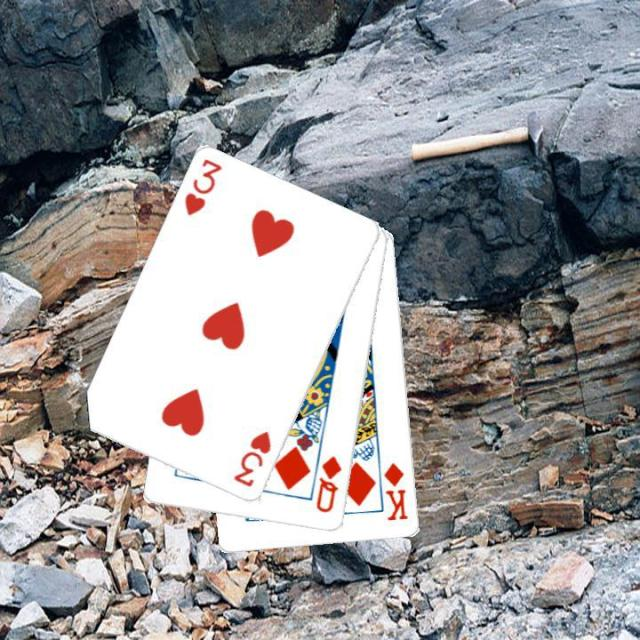3H: (229, 428, 274, 490), (180, 156, 224, 218)
KD: (380, 458, 410, 524)
QD: (312, 452, 344, 514)
